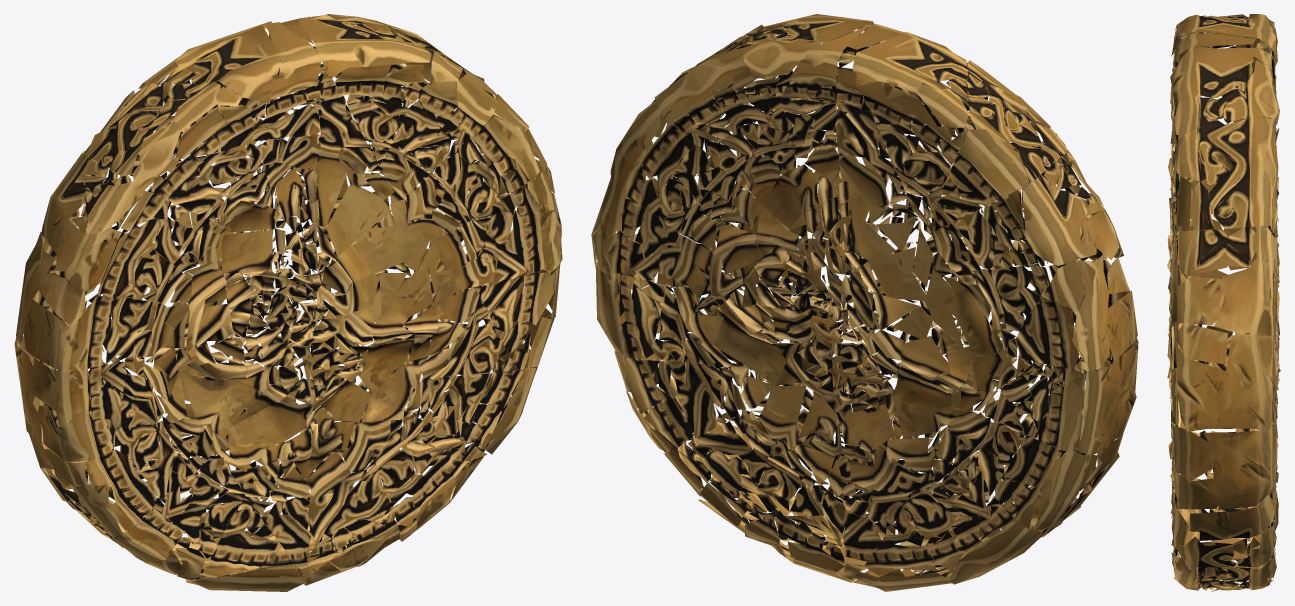
Rendered from Akce.fbx.
The picture shows the model from 3 angles, left to right: view 1: azimuth 30°, elevation 25°; view 2: azimuth 150°, elevation 25°; view 3: azimuth 270°, elevation 25°; orthographic projection. The views are drawn at different scales.
Parts seen in each view (by area): view 1: Akce.391; view 2: Akce.391; view 3: Akce.391.
Part boxes in pixels (left/top/right/bottom): Akce.391: left=14, top=14, right=562, bottom=591; Akce.391: left=591, top=14, right=1138, bottom=591; Akce.391: left=1167, top=14, right=1280, bottom=591.
Bounding box in the file's own units: 0.3492 × 0.35 × 0.0691.
Materials: 1 (1 with a texture image).
